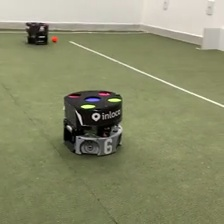ball: (51, 35, 58, 43)
goal: (201, 25, 224, 53)
robot: (61, 87, 125, 157), (24, 20, 50, 45)
